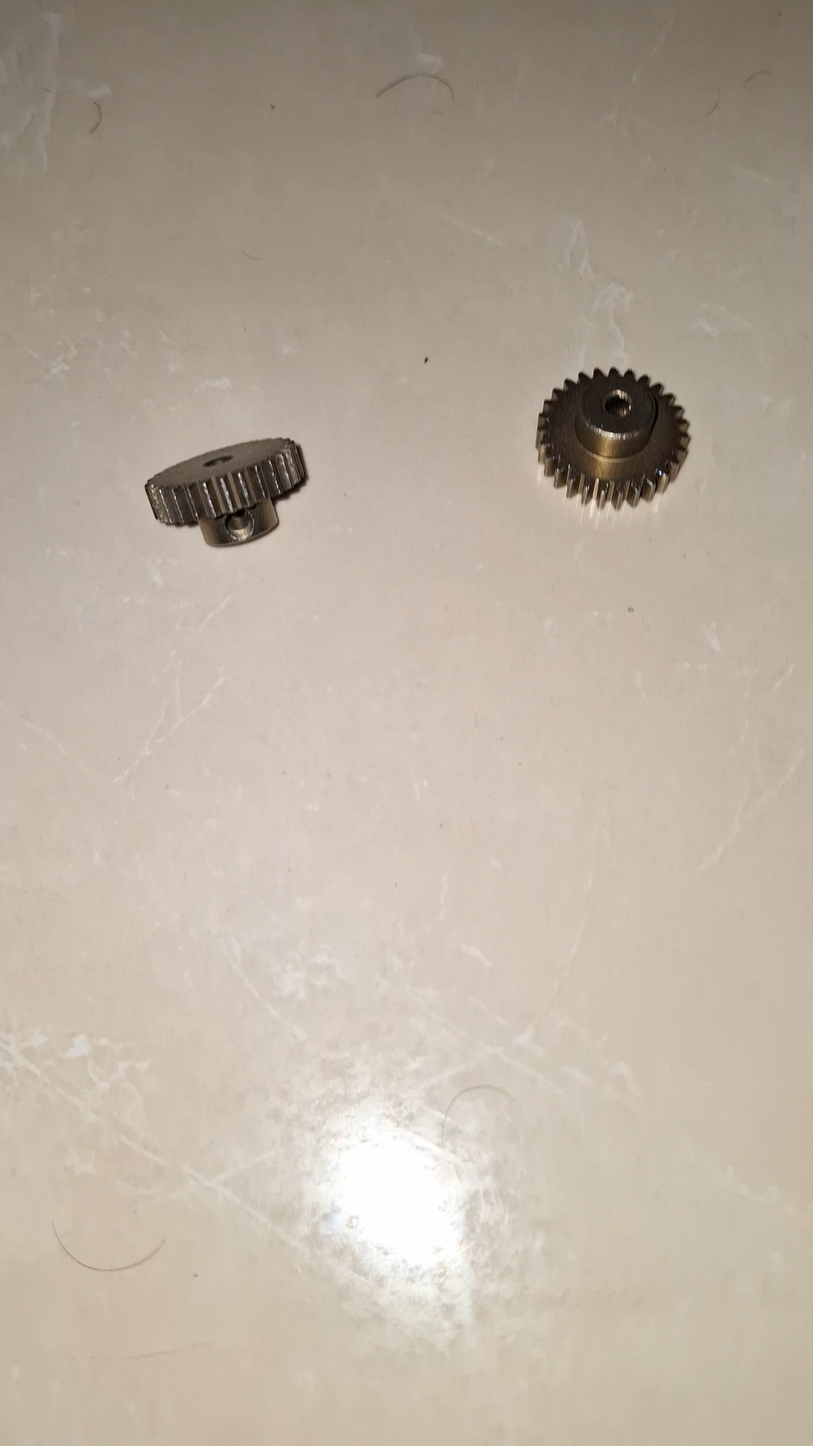spur gear: (537, 369, 688, 508), (146, 439, 305, 546)
